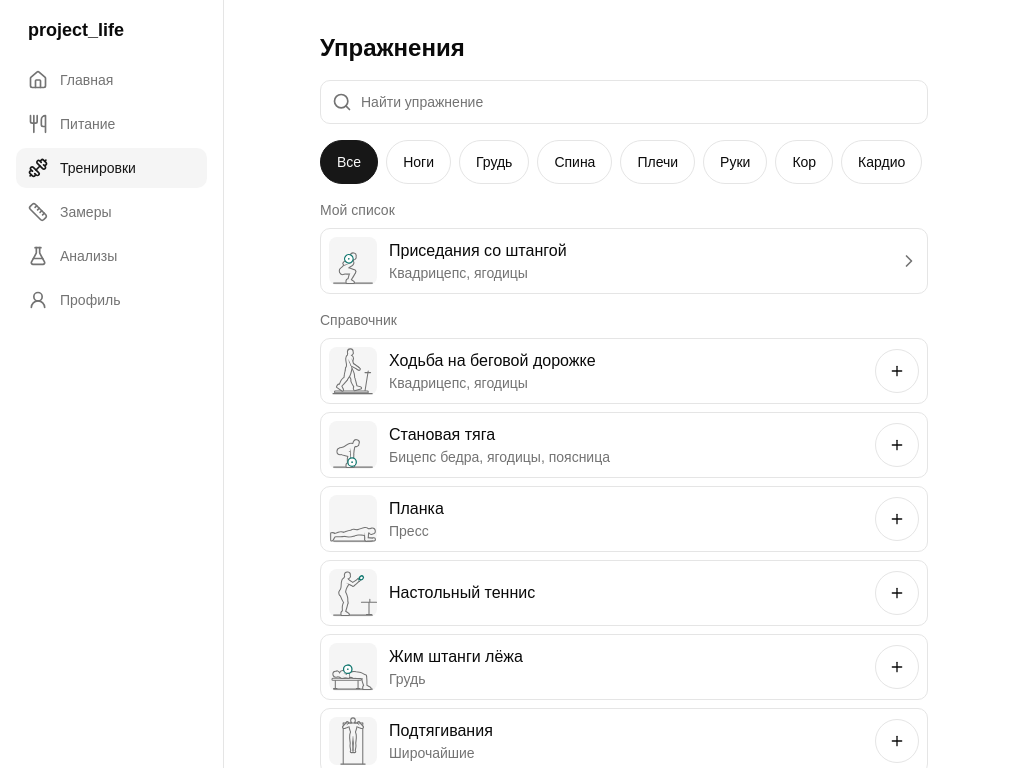
Test: список упражнений › поиск идёт по названию без учёта регистра
Step 1. Type "ТЯГ" into the search field labelled "Найти упражнение" → (624,102), box [320,80,928,124]
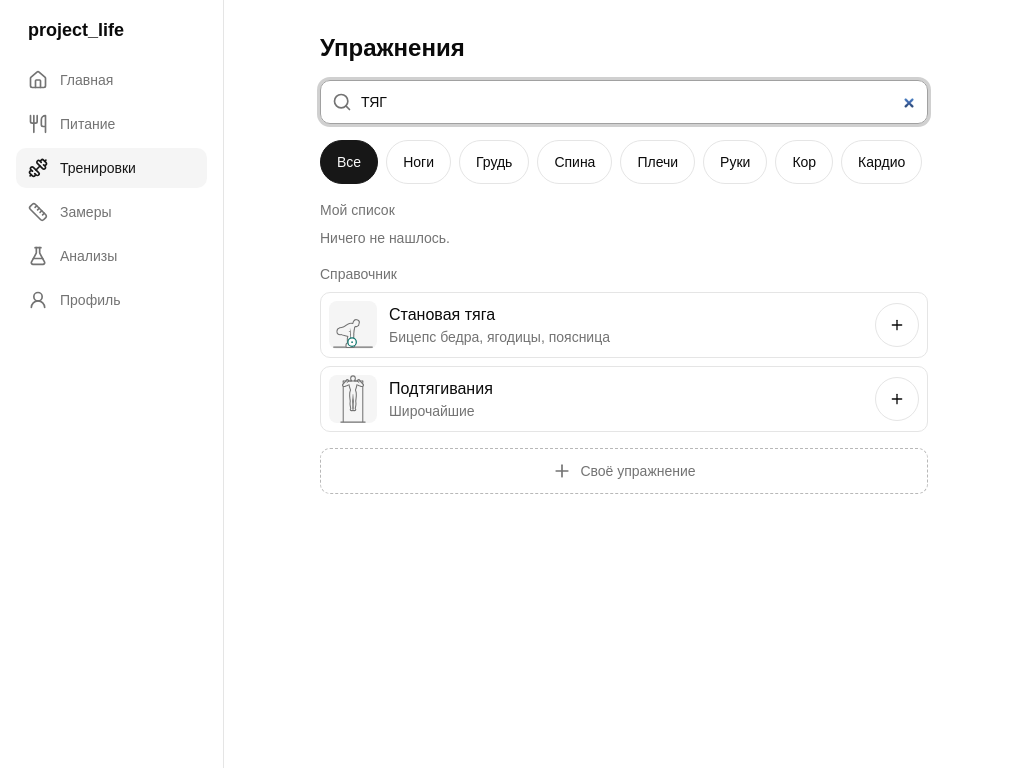
Now the text "Ничего не нашлось." is shown, box [320,230,450,246]
